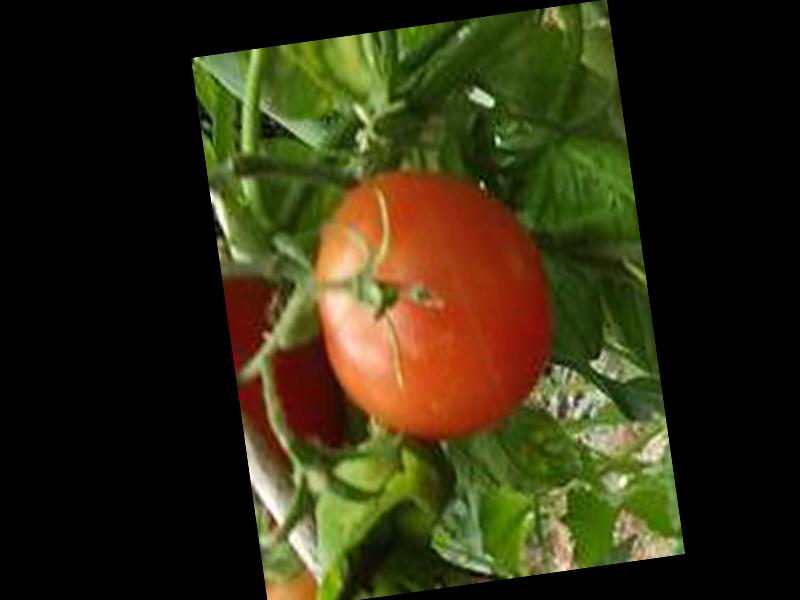Tomato: (300, 156, 560, 450)
